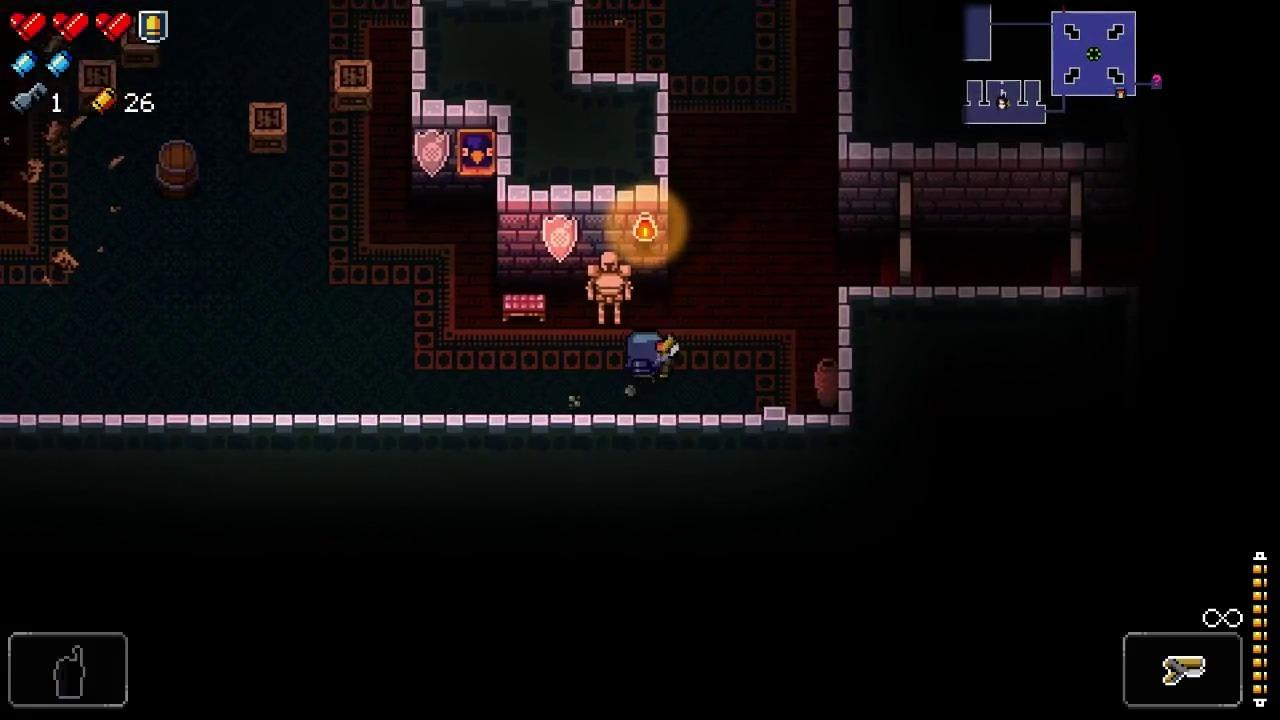player: (625, 329, 666, 386)
unlocked_door: (897, 170, 915, 287), (1067, 171, 1084, 285)
